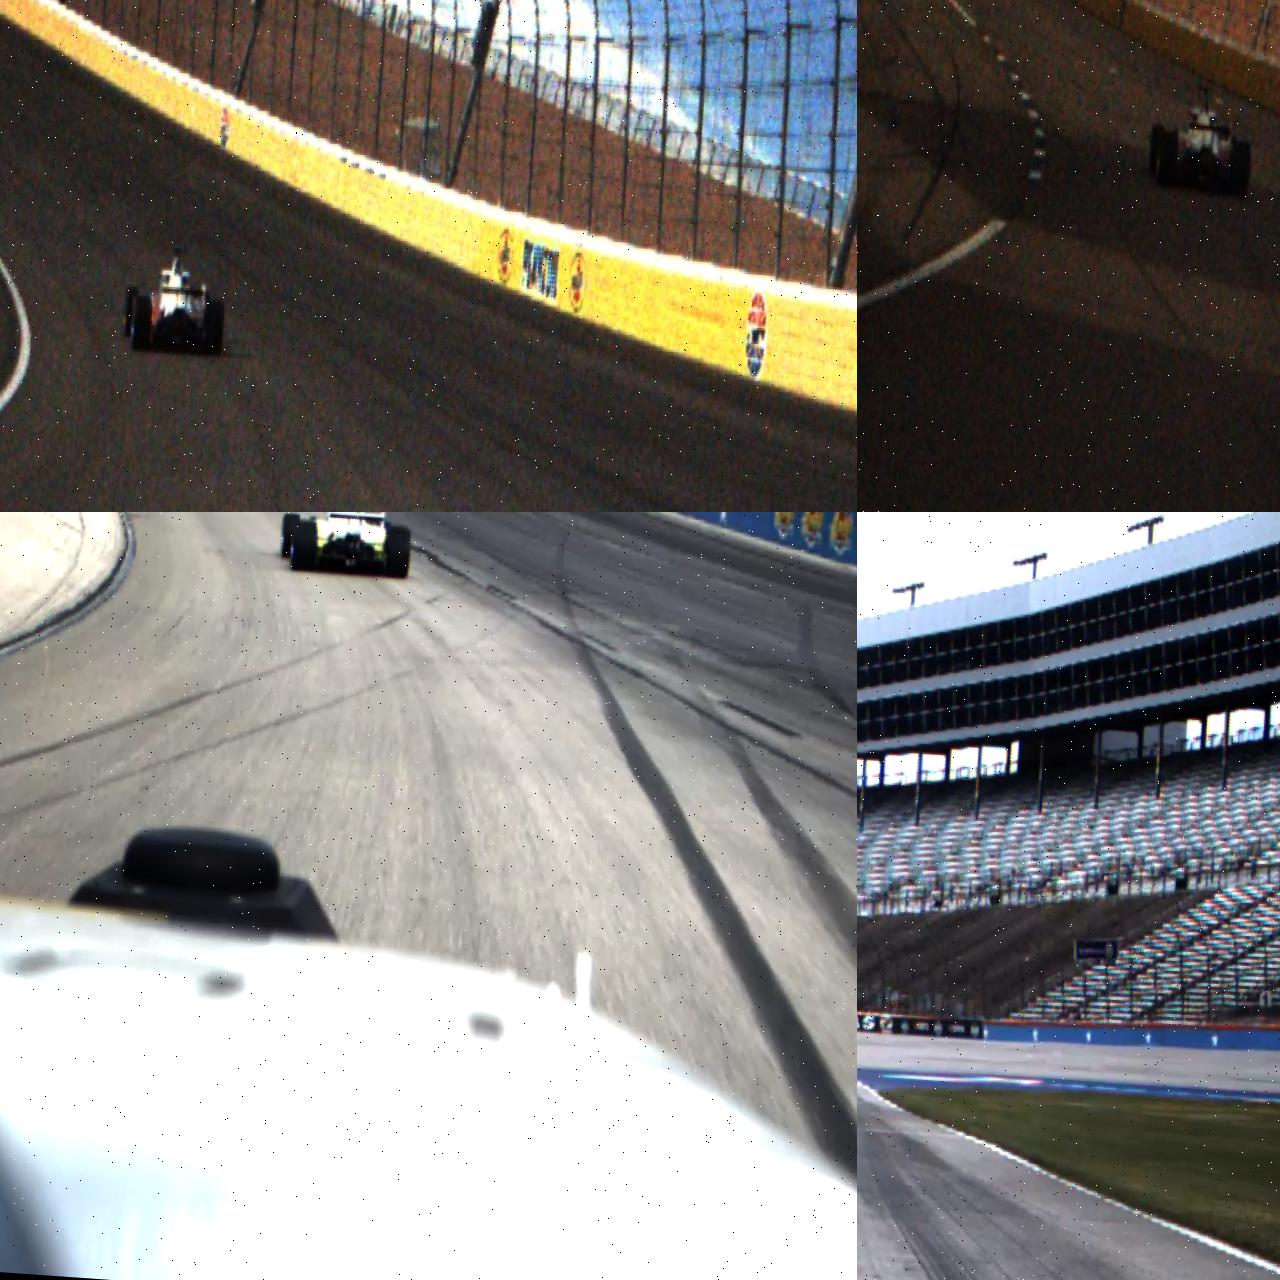AV: (1146, 78, 1258, 200), (120, 242, 230, 358), (277, 512, 415, 579)
Wheel: (384, 526, 412, 578), (1230, 140, 1254, 200), (290, 521, 318, 572), (130, 296, 153, 352), (1156, 130, 1178, 188), (206, 300, 225, 357), (278, 512, 301, 558), (1148, 122, 1166, 174), (122, 286, 139, 338)
